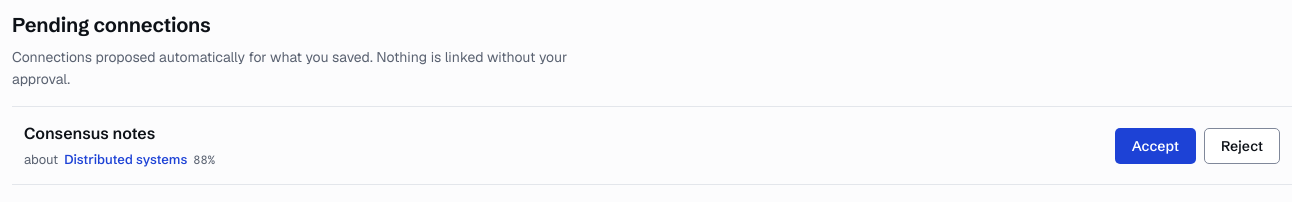
the "Pending connections" tab › rejecting removes it from the tab
Step 1. Click the button "Reject" → x=1242, y=146, box [1204,128,1280,164]
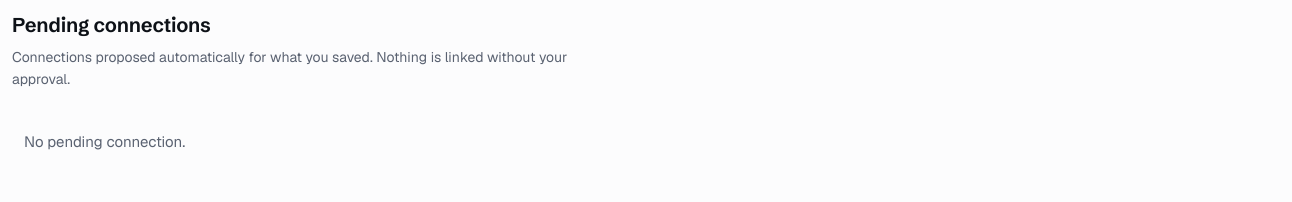
Expected: the text "No pending connection." is shown, [24,132,185,151]
